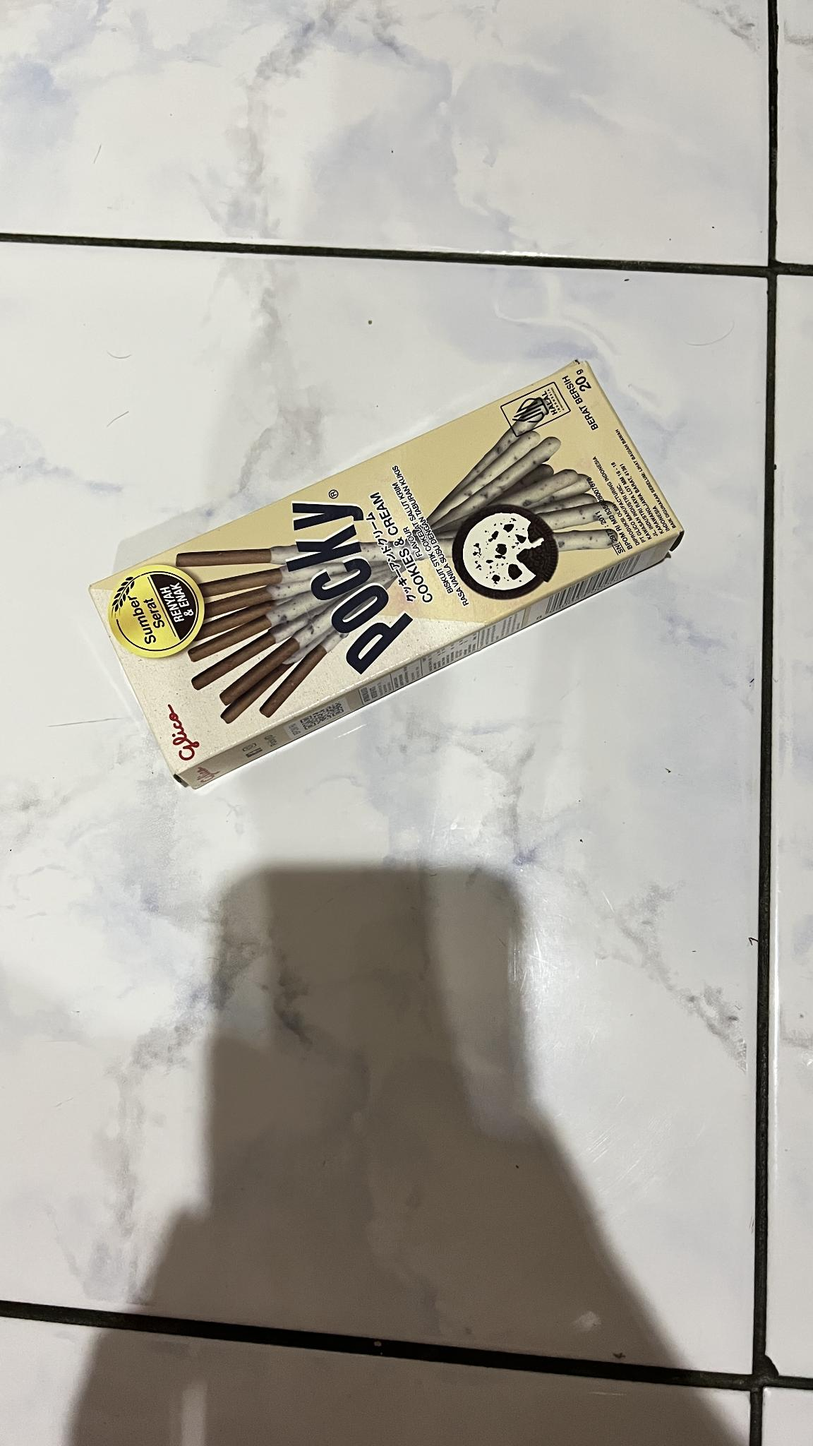Kertas: (93, 341, 681, 782)
